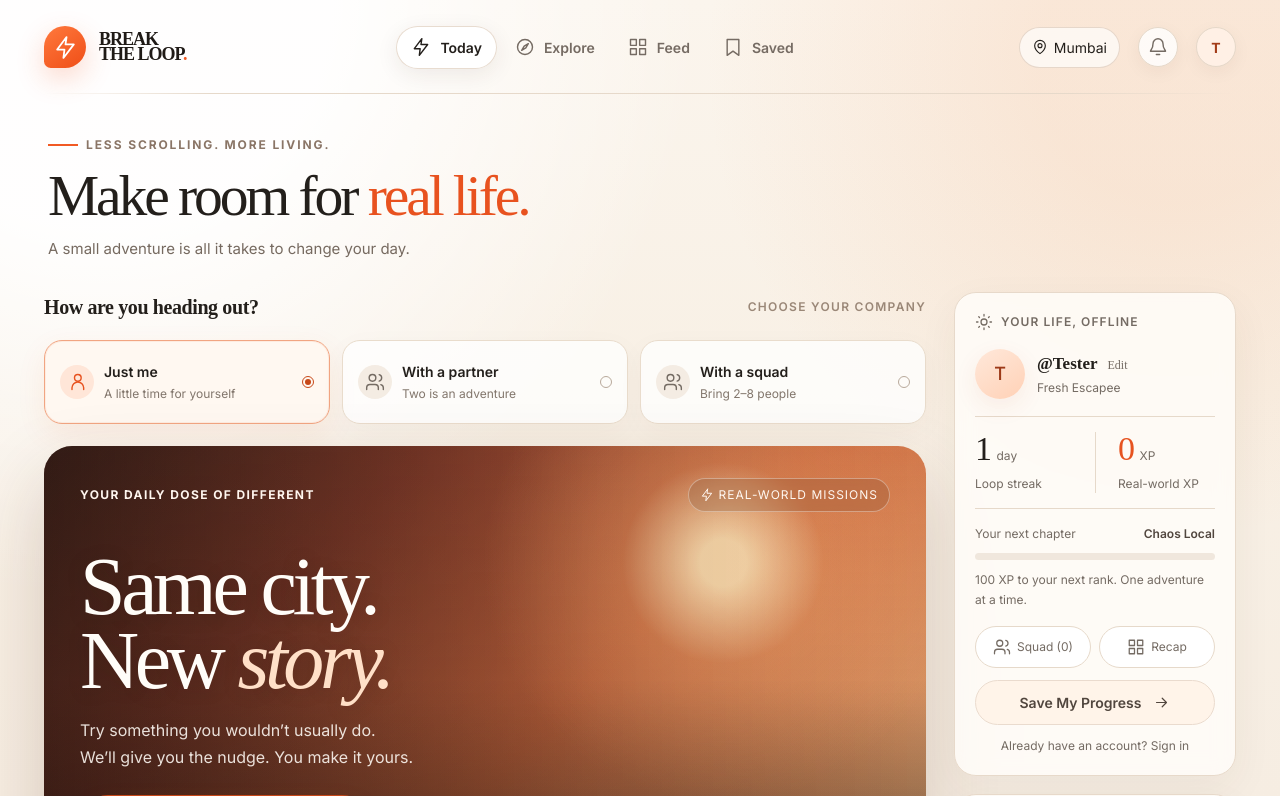
Test case: save my progress (email linking, no real email sent) › links an email to the current anonymous session via updateUser
Click the button "Save My Progress" at (1095, 702), box [975,680,1215,724]
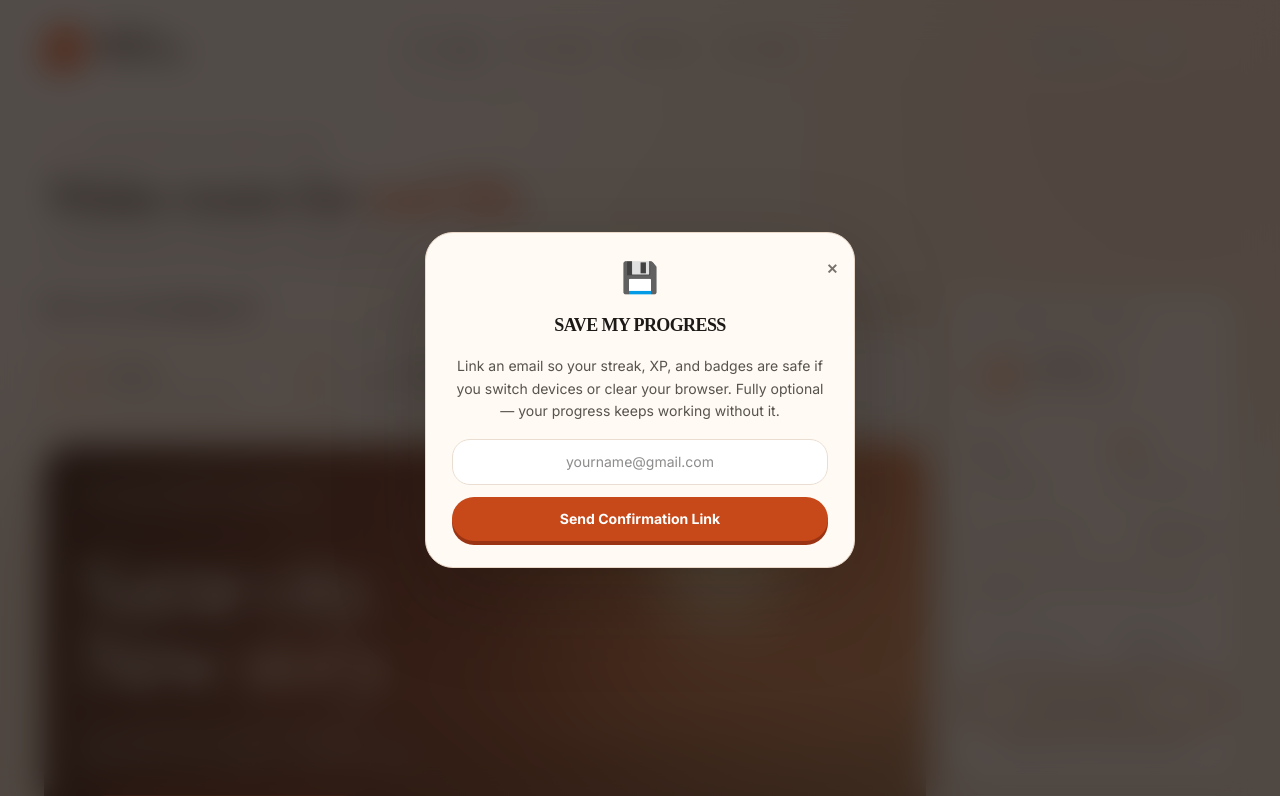
Check: the heading "SAVE MY PROGRESS" is shown, box [554,315,726,335]
Type "save-me@example.com" into the field with placeholder "yourname@gmail.com" at (640, 462), box [452,439,828,485]
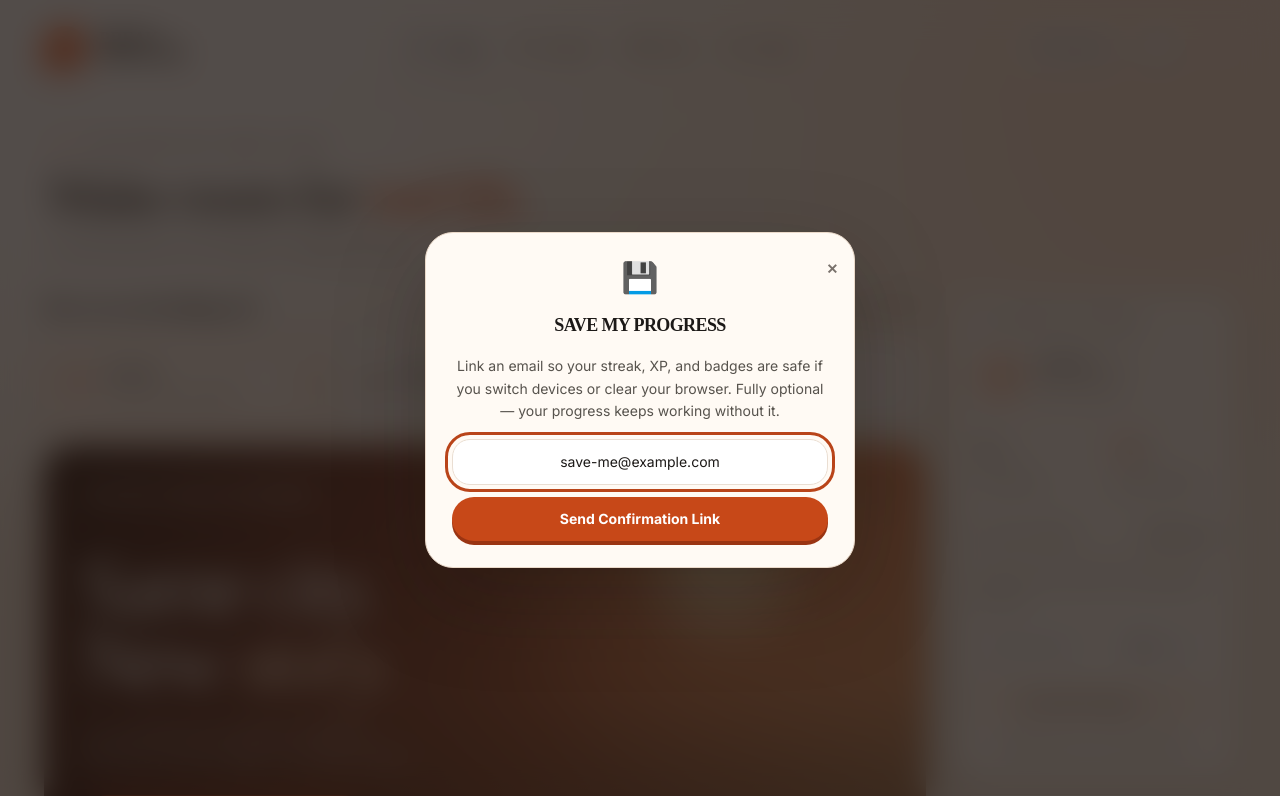
Click the button "Send Confirmation Link" at (640, 519), box [452,497,828,541]
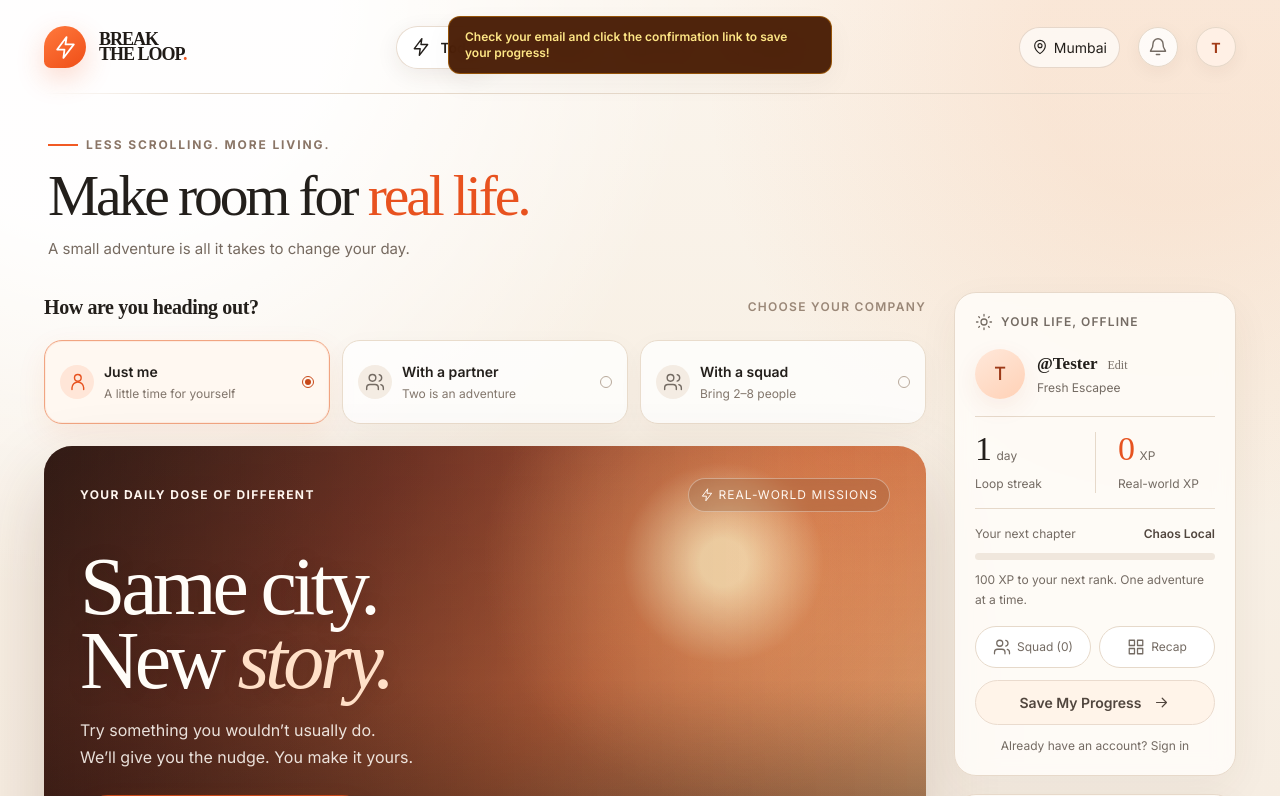
Check: the text "Check your email and click the confirmation link to save your progress!" is shown, box [448,16,832,74]
